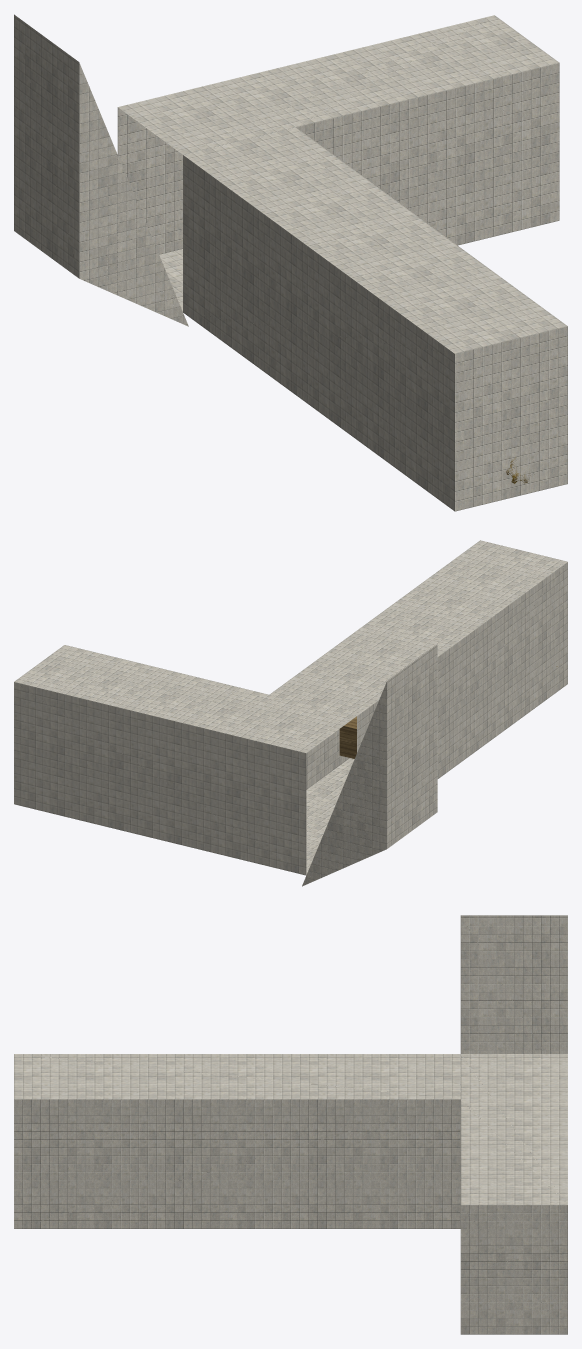
Rendered from hallway.fbx.
The picture shows the model from 3 angles, top to bottom: view 1: azimuth 30°, elevation 25°; view 2: azimuth 150°, elevation 25°; view 3: azimuth 270°, elevation 25°; orthographic projection. The views are drawn at different scales.
Visible parts, largest first — view 1: Plane001, StraightStair001; view 2: Plane001, StraightStair001, Box001; view 3: Plane001, StraightStair001.
Boxes of the visible parts, x1,y1,x2,y2 form: Plane001: [117, 15, 567, 511]; StraightStair001: [14, 14, 188, 326]; Plane001: [14, 540, 567, 875]; StraightStair001: [302, 644, 437, 886]; Box001: [339, 716, 356, 758]; Plane001: [14, 1054, 567, 1334]; StraightStair001: [460, 915, 567, 1053].
Bounding box in the file's own units: 12.76 × 7.39 × 15.5.
